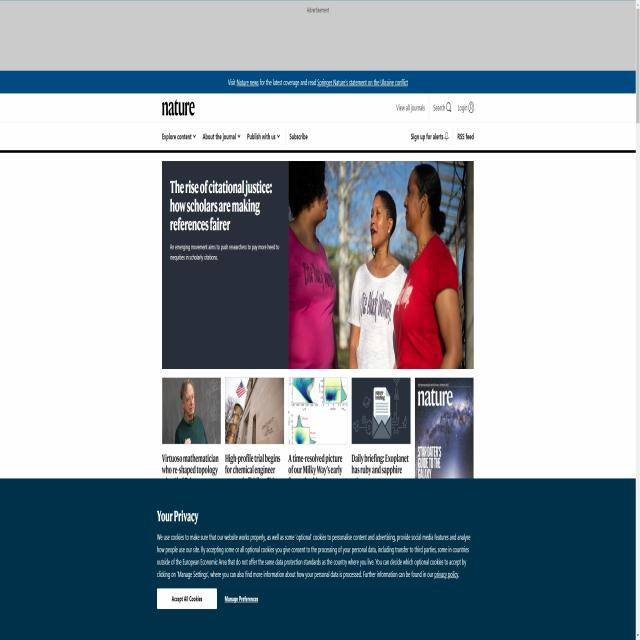menu-bar: (394, 96, 477, 118)
tab-bar: (158, 126, 314, 146)
